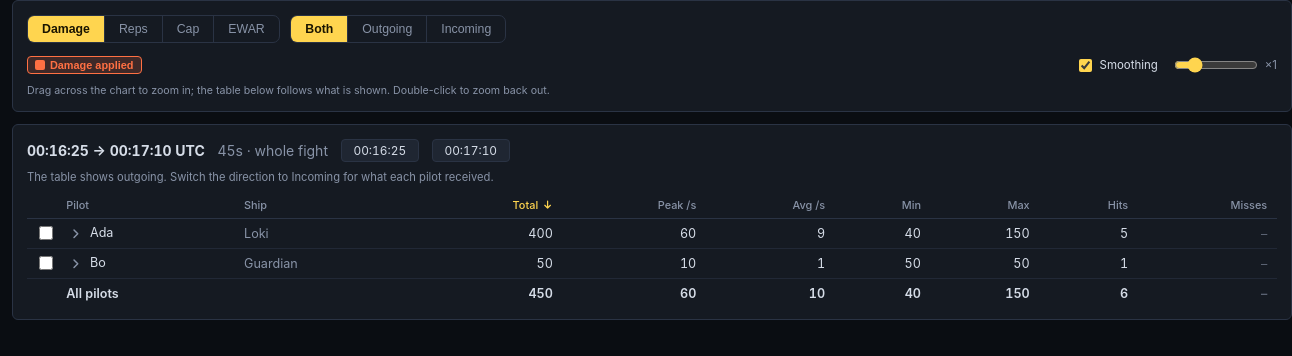
Scenario: TimelineTab › ticking a pilot isolates them; clearing shows the whole fleet again
Expected: the row with test id "stats-row-1" is shown, [27,218,1277,248]
Click the checkbox named "Isolate Ada" at (46, 233), box [39,226,53,240]
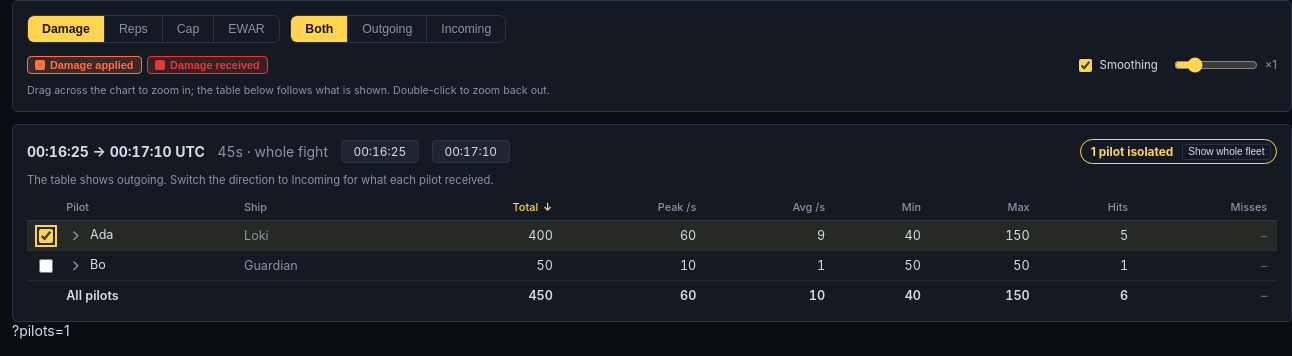
Expected: the element with test id "isolation-bar" shows "1 pilot isolated", [1091,144,1173,159]
Expected: the text with test id "where" shows "pilots=1", [12,322,70,339]
Click the button with test id "isolation-clear" at (1226, 152), box [1182,144,1271,160]
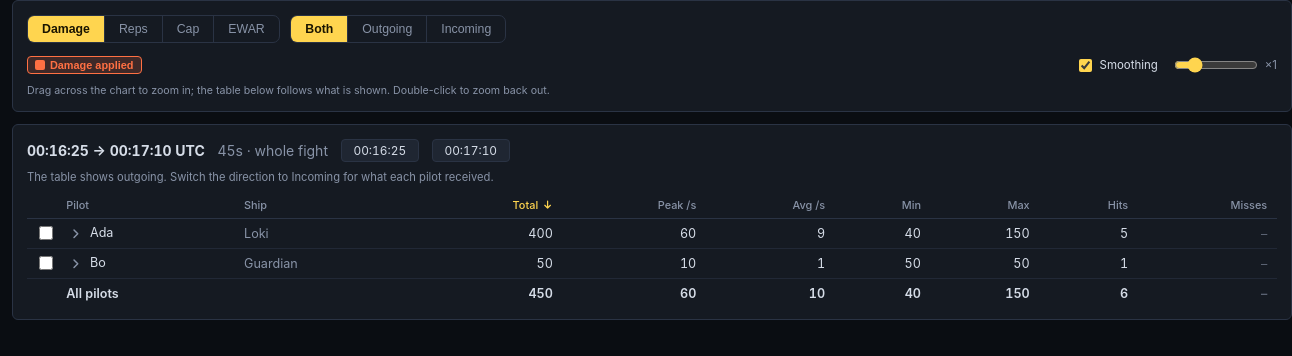
Expected: the element with test id "isolation-bar" is gone
